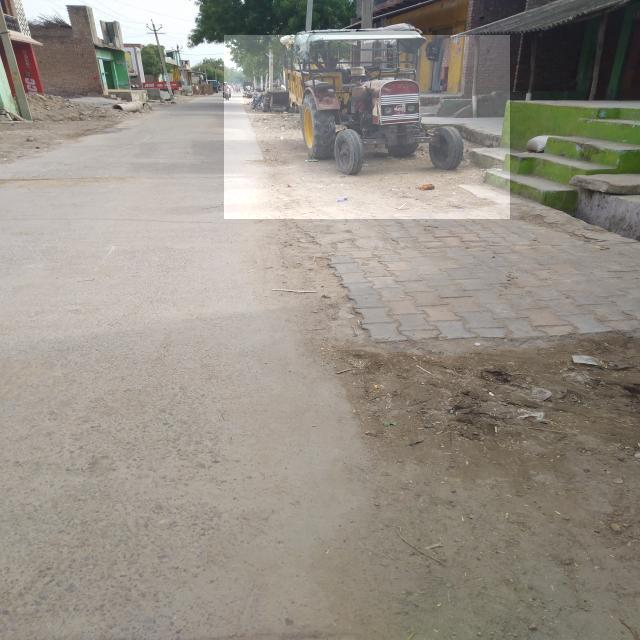Tractot: (224, 35, 510, 219)
